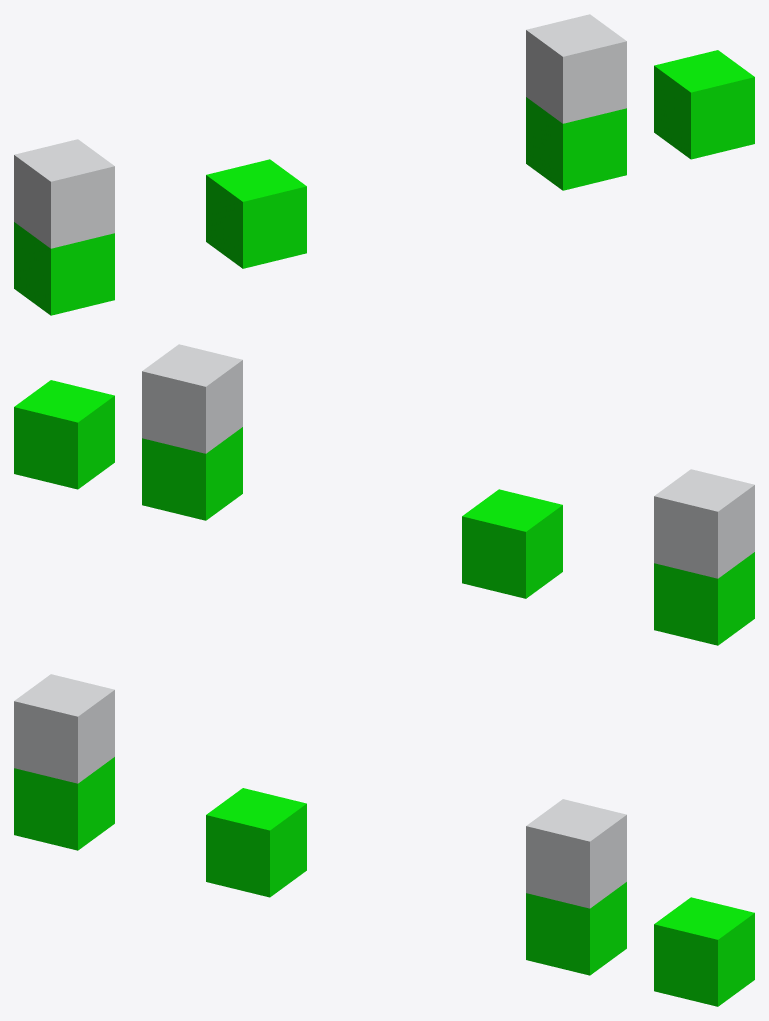
Rendered from spliced-export.glb.
3 views of the same model, one above another, from view 1: azimuth 30°, elevation 25°; view 2: azimuth 150°, elevation 25°; view 3: azimuth 330°, elevation 25° (orthographic).
Parts seen in each view (by area): view 1: Grouped box, Wing, hullMesh, Ship box, wingMesh, Hull; view 2: Grouped box, Wing, hullMesh, Ship box, wingMesh, Hull; view 3: hullMesh, Grouped box, Wing, Ship box, wingMesh, Hull.
Part boxes in pixels (x1=…): Grouped box: x1=14, y1=139, x2=114, y2=248; Wing: x1=654, y1=50, x2=754, y2=159; hullMesh: x1=206, y1=159, x2=306, y2=268; Ship box: x1=526, y1=14, x2=626, y2=123; wingMesh: x1=14, y1=222, x2=114, y2=315; Hull: x1=526, y1=97, x2=626, y2=190; Grouped box: x1=654, y1=469, x2=754, y2=578; Wing: x1=14, y1=380, x2=114, y2=489; hullMesh: x1=462, y1=489, x2=562, y2=598; Ship box: x1=142, y1=344, x2=242, y2=453; wingMesh: x1=654, y1=552, x2=754, y2=645; Hull: x1=142, y1=427, x2=242, y2=520; hullMesh: x1=206, y1=788, x2=306, y2=897; Grouped box: x1=14, y1=674, x2=114, y2=783; Wing: x1=654, y1=897, x2=754, y2=1006; Ship box: x1=526, y1=799, x2=626, y2=908; wingMesh: x1=14, y1=757, x2=114, y2=850; Hull: x1=526, y1=882, x2=626, y2=975.
Bounding box in the file's own units: 11 × 2 × 1.
